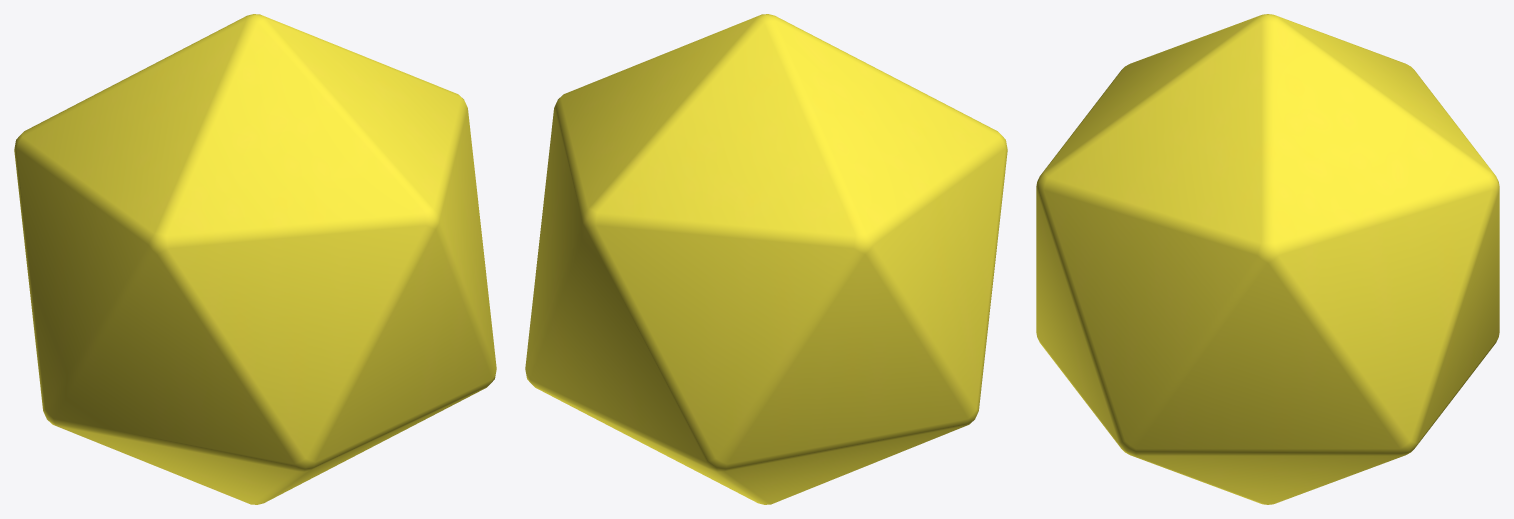
The model's file is D20Big_1.fbx.
3 renders of one model, left to right at view 1: azimuth 30°, elevation 25°; view 2: azimuth 150°, elevation 25°; view 3: azimuth 270°, elevation 25°, orthographic.
Visible parts, largest first — view 1: Icosphere.006; view 2: Icosphere.006; view 3: Icosphere.006.
Boxes of the visible parts, x1,y1,x2,y2 form: Icosphere.006: [14, 14, 496, 504]; Icosphere.006: [525, 14, 1007, 504]; Icosphere.006: [1036, 14, 1499, 504].
Bounding box in the file's own units: 354 × 393 × 338.
